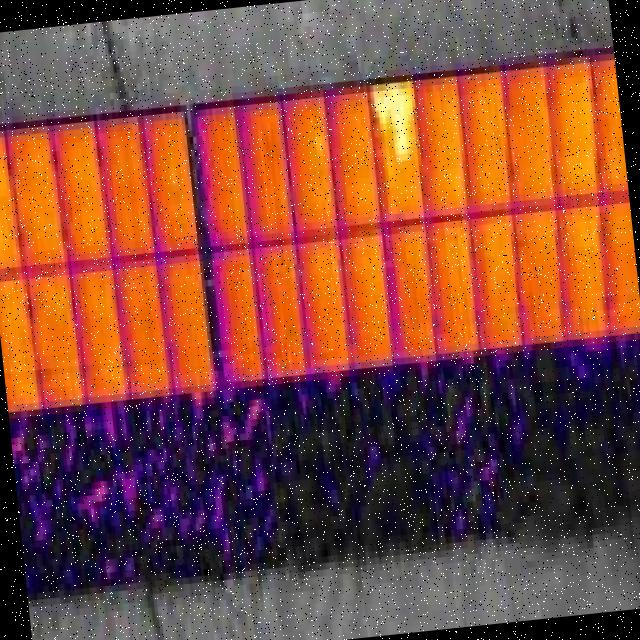Hotspot: (372, 80, 418, 162)
